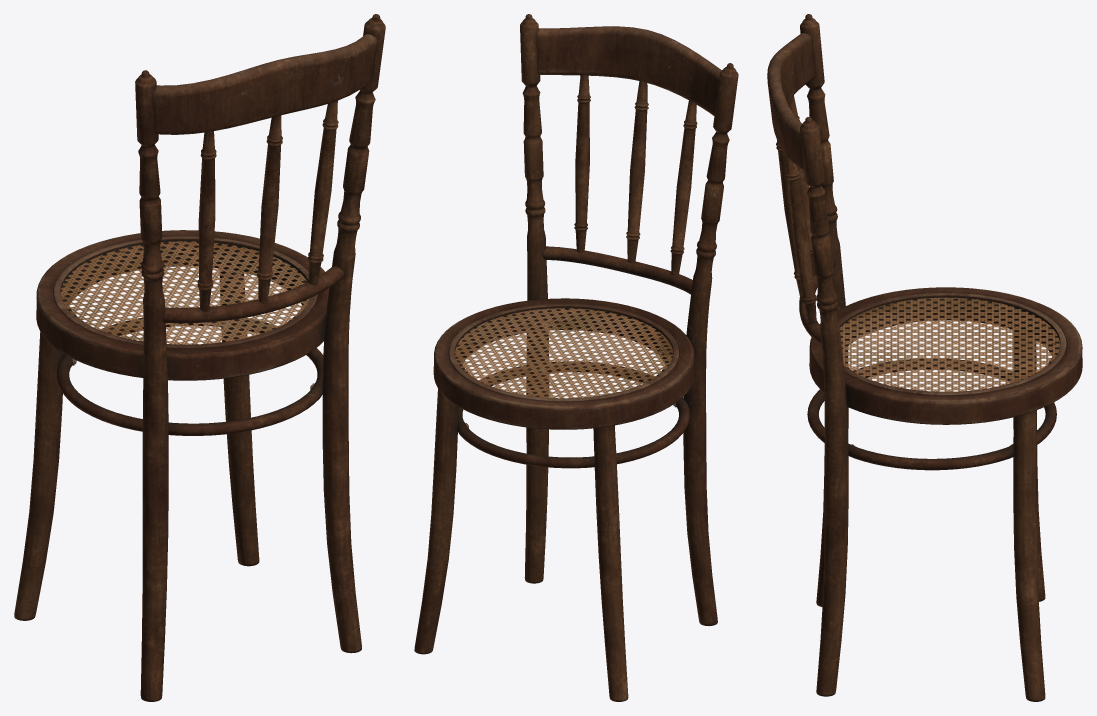
Rendered from chair.glb.
The picture shows the model from 3 angles, left to right: view 1: azimuth 30°, elevation 25°; view 2: azimuth 150°, elevation 25°; view 3: azimuth 270°, elevation 25°; orthographic projection. The views are drawn at different scales.
Parts seen in each view (by area): view 1: Nogi, Obod_sidenie, Setka, Spinka, Perekladini, Obruch, Fixator, Perekladina; view 2: Nogi, Obod_sidenie, Setka, Spinka, Perekladini, Obruch, Fixator, Perekladina; view 3: Nogi, Setka, Obod_sidenie, Obruch, Spinka, Perekladini, Fixator.
Part boxes in pixels (x1,y1,x2,y2): Nogi: [14, 14, 385, 701]; Obod_sidenie: [36, 230, 329, 380]; Setka: [60, 241, 309, 344]; Spinka: [153, 34, 377, 134]; Perekladini: [197, 100, 338, 311]; Obruch: [57, 317, 323, 435]; Fixator: [53, 236, 317, 348]; Perekladina: [163, 266, 344, 323]; Nogi: [414, 14, 738, 701]; Obod_sidenie: [433, 298, 694, 429]; Setka: [455, 308, 673, 398]; Spinka: [536, 26, 721, 115]; Perekladini: [574, 74, 697, 275]; Obruch: [457, 361, 689, 468]; Fixator: [449, 303, 679, 401]; Perekladina: [542, 246, 692, 294]; Nogi: [800, 14, 1045, 701]; Setka: [840, 297, 1060, 391]; Obod_sidenie: [809, 287, 1082, 424]; Obruch: [807, 358, 1056, 470]; Spinka: [767, 33, 815, 170]; Perekladini: [776, 95, 816, 324]; Fixator: [838, 293, 1066, 395].
Bounding box in the file's own units: 0.4236 × 0.996 × 0.489.
1 material, 1 textured.
